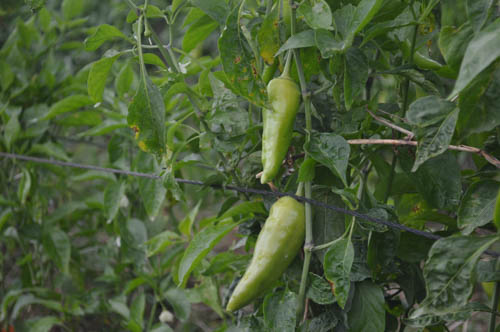ChiliPepper: (227, 199, 312, 313), (257, 78, 301, 184)
